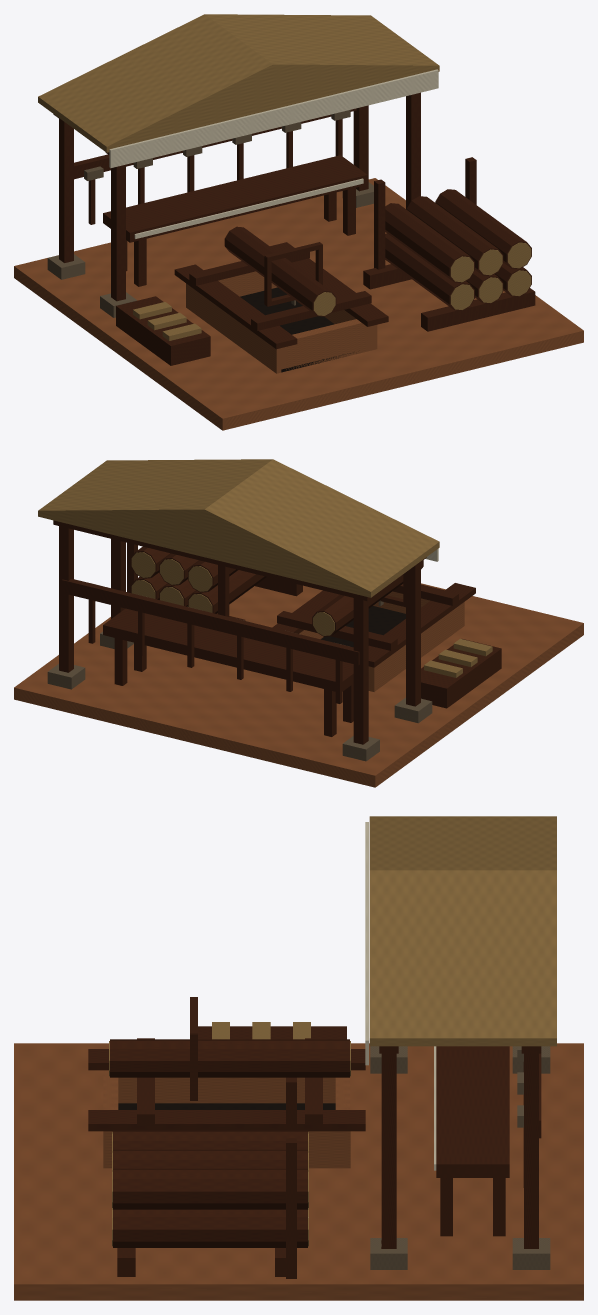
The model's file is Berber_Lumber_Age1.fbx.
3 renders of one model, top to bottom at view 1: azimuth 30°, elevation 25°; view 2: azimuth 150°, elevation 25°; view 3: azimuth 270°, elevation 25°, orthographic. The views are drawn at different scales.
Parts seen in each view (by area): view 1: yard_foundation, covered_tool_roof, tool_bench_top, owner_front_roof_valance, sawpit_work_log, offcut_sorting_bin, pit_end, sorted_timber.003, pit_side, pit_rim_plank, sorted_timber.004, sorted_timber.005 (+19 smaller); view 2: yard_foundation, covered_tool_roof, tool_bench_top, tool_rack_backrail, offcut_sorting_bin, shelter_post.001, shelter_post, pit_side, shelter_post.003, pit_rim_plank, shelter_eave_beam.001, sawpit_work_log (+19 smaller); view 3: yard_foundation, covered_tool_roof, tool_bench_top, sawpit_work_log, sorted_timber.005, sorted_timber.002, pit_rim_plank.001, pit_side, sorted_timber.003, sorted_timber.004, shelter_post.002, shelter_post.003 (+13 smaller).
Part boxes in pixels (x1,y1,x2,y2): yard_foundation: (14,178,583,430); covered_tool_roof: (38,14,439,152); tool_bench_top: (103,155,367,242); owner_front_roof_valance: (109,69,438,168); sawpit_work_log: (224,226,336,316); offcut_sorting_bin: (116,296,210,365); pit_end: (286,319,367,369); sorted_timber.003: (385,203,474,282); pit_side: (186,283,285,373); pit_rim_plank: (174,264,297,349); sorted_timber.004: (406,196,503,276); sorted_timber.005: (435,189,531,269); yard_foundation: (14,583,583,787); covered_tool_roof: (38,459,439,597); tool_bench_top: (103,608,353,691); tool_rack_backrail: (62,578,359,665); offcut_sorting_bin: (421,639,501,708); shelter_post.001: (353,598,368,744); shelter_post: (406,562,420,706); pit_side: (368,602,464,691); shelter_post.003: (59,526,73,672); pit_rim_plank: (368,583,475,667); shelter_eave_beam.001: (53,520,373,600); sawpit_work_log: (312,560,423,636); yard_foundation: (14,1043,583,1300); covered_tool_roof: (369,816,556,1046); tool_bench_top: (436,1046,509,1177); sawpit_work_log: (110,1039,349,1077); sorted_timber.005: (113,1168,307,1209); sorted_timber.002: (113,1209,307,1247); pit_rim_plank.001: (88,1110,365,1131); pit_side: (118,1077,335,1103); sorted_timber.003: (113,1130,307,1149); sorted_timber.004: (113,1149,307,1168); shelter_post.002: (381,1053,396,1248); shelter_post.003: (524,1053,538,1248).
Size of the model in its own units: 380 by 228 by 380.
6 materials, 6 textured.
